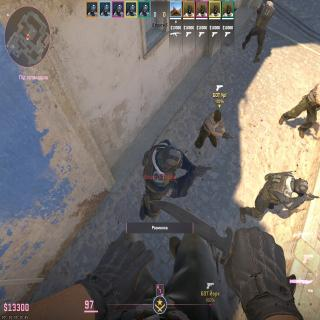CT-Body: (142, 138, 184, 218), (252, 170, 310, 213), (244, 0, 276, 57)
CT-Head: (162, 144, 183, 170), (293, 178, 308, 195)
T-Body: (285, 83, 320, 126), (198, 109, 225, 149)
T-Head: (214, 110, 222, 122)
